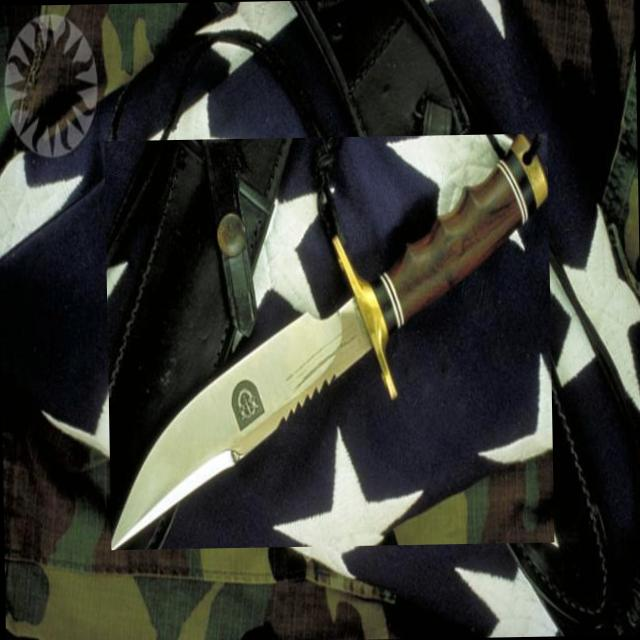Knife: (112, 134, 548, 550)
